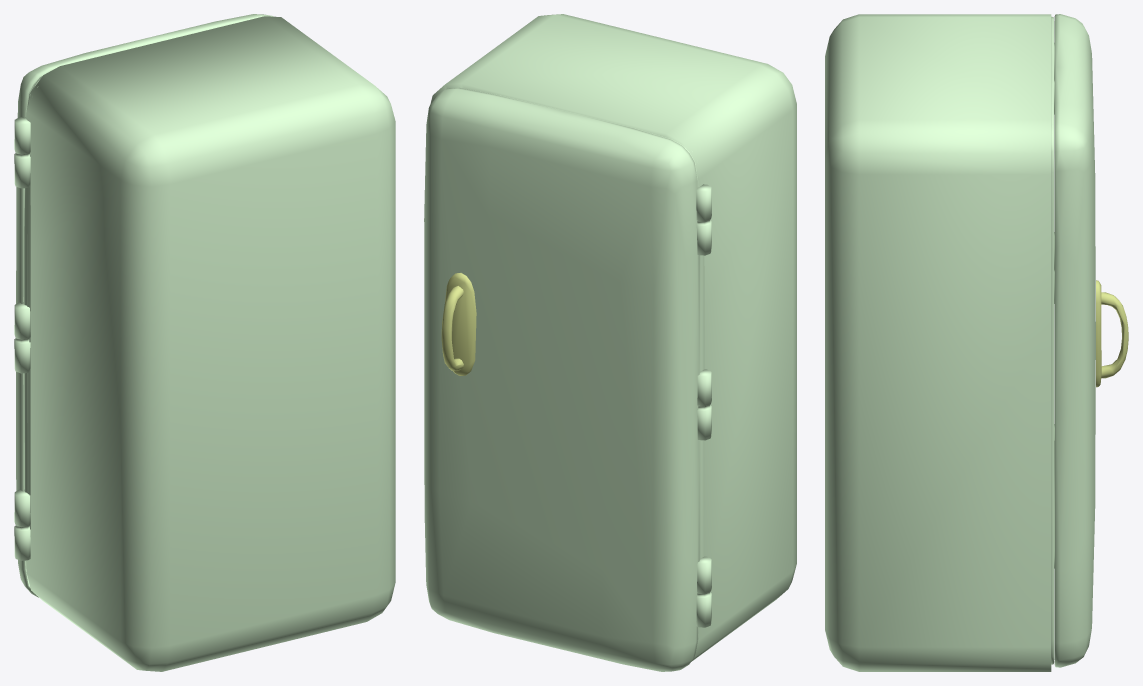
File: Furniture_Fridge_Round.fbx
The picture shows the model from 3 angles, left to right: view 1: azimuth 30°, elevation 25°; view 2: azimuth 150°, elevation 25°; view 3: azimuth 270°, elevation 25°; orthographic projection. The views are drawn at different scales.
Parts seen in each view (by area): view 1: Fridge; view 2: Fridge; view 3: Fridge.
Boxes of the visible parts, box(x1,y1,x2,y2) form: Fridge: box(14, 14, 395, 671); Fridge: box(424, 14, 796, 671); Fridge: box(825, 14, 1128, 671).
Bounding box in the file's own units: 117 × 213 × 107.
